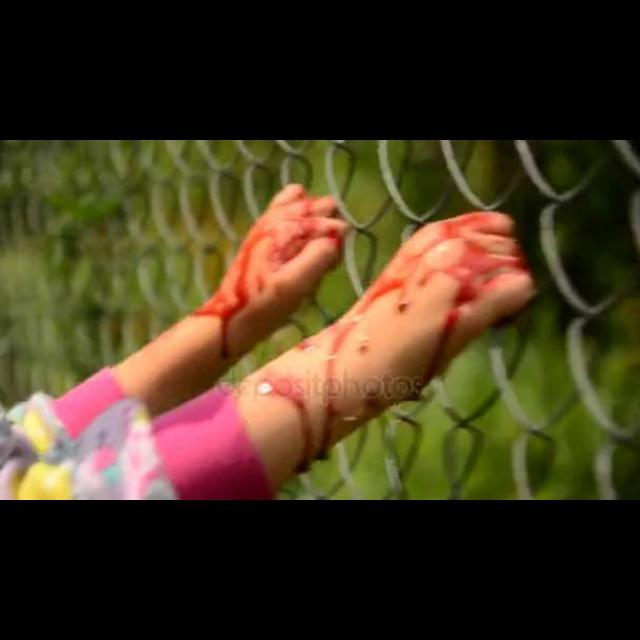blood: (257, 212, 531, 472), (191, 184, 346, 358)
